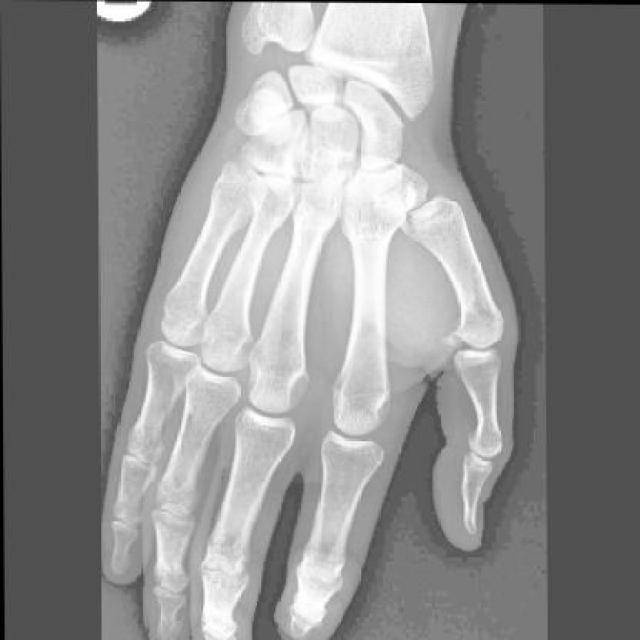Fracture: (391, 206, 428, 243)
